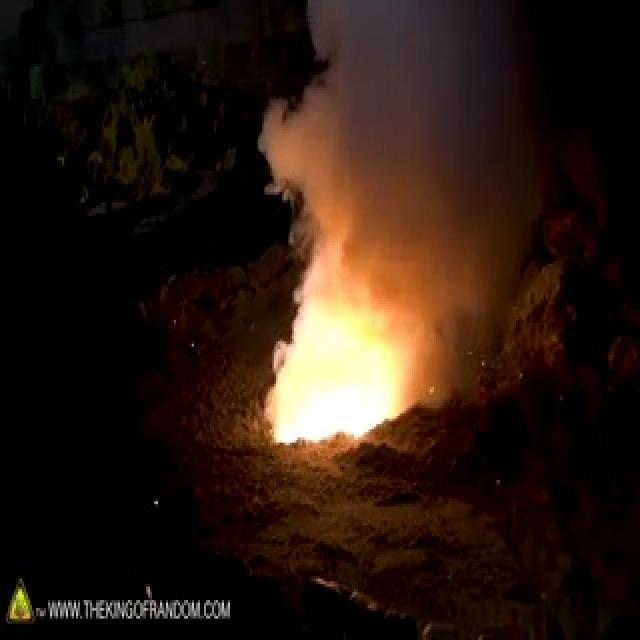Fire: (260, 270, 408, 450)
Smoke: (279, 0, 572, 299)
